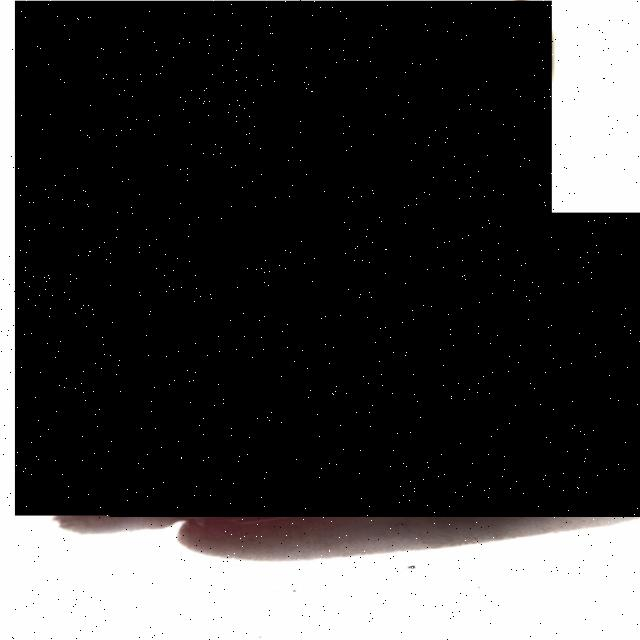Chili_Pepper: (15, 1, 552, 516), (110, 213, 640, 517)
